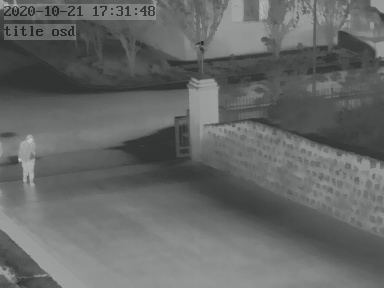person: (18, 133, 37, 188)
